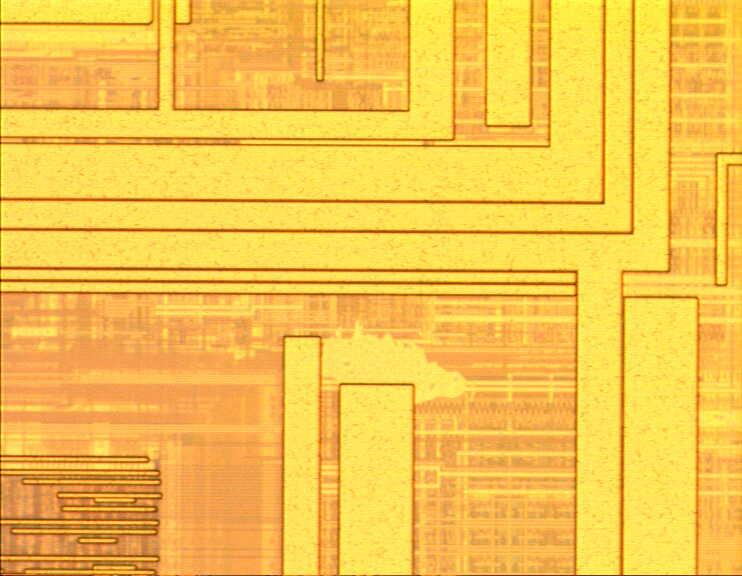BLOCK ETCH: (297, 327, 470, 409)
